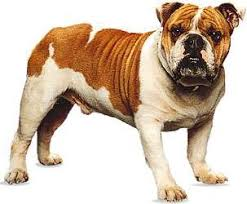Bulldog: (6, 1, 245, 202)
